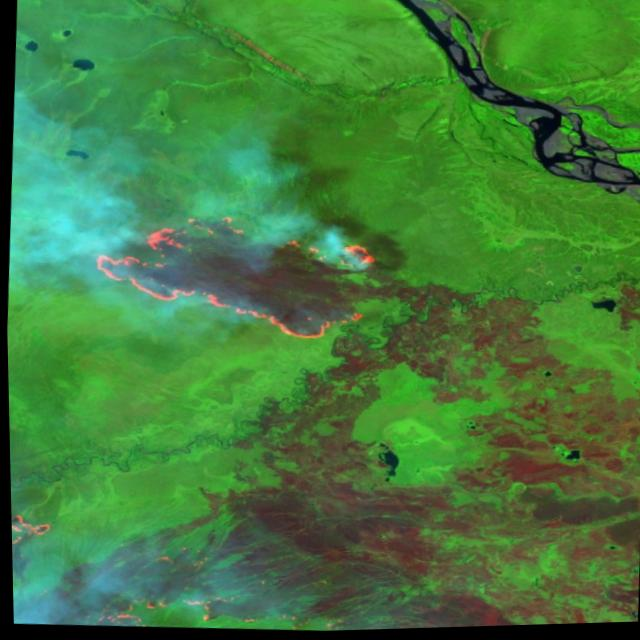fire: (79, 191, 381, 355), (9, 503, 318, 639)
